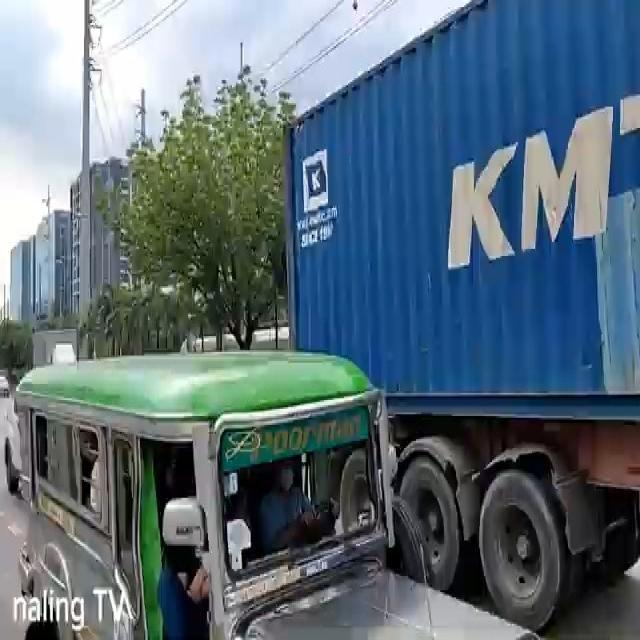jeepney: (15, 359, 541, 640)
truck: (281, 0, 640, 633)
